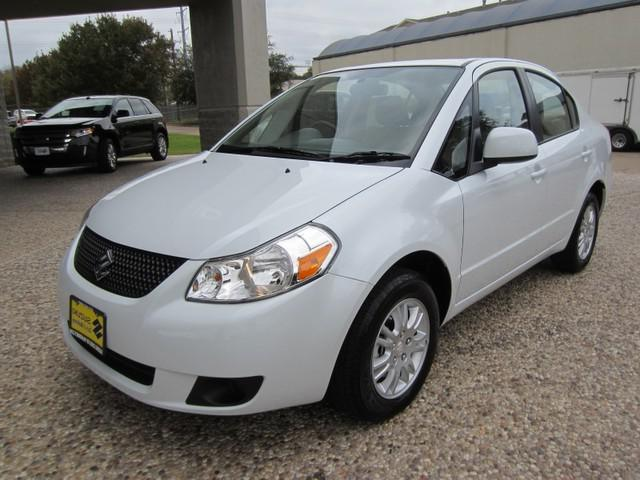Car: (48, 50, 619, 461), (8, 82, 168, 191)
